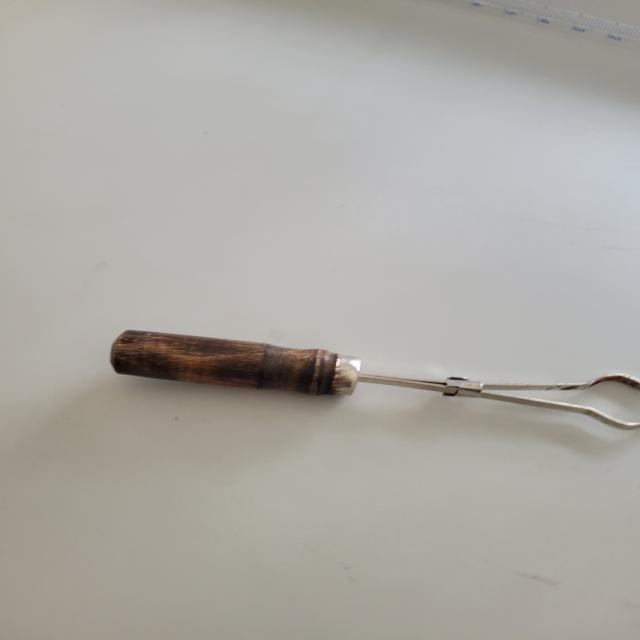TestTube_Holder: (70, 281, 640, 488)
